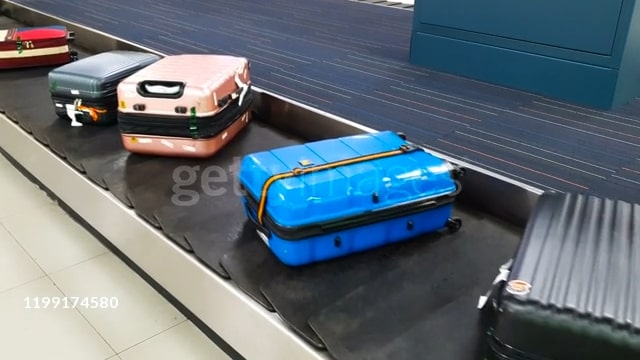baggage: (227, 126, 465, 273), (482, 188, 640, 360), (120, 48, 255, 157), (45, 46, 162, 125), (2, 23, 80, 76)
